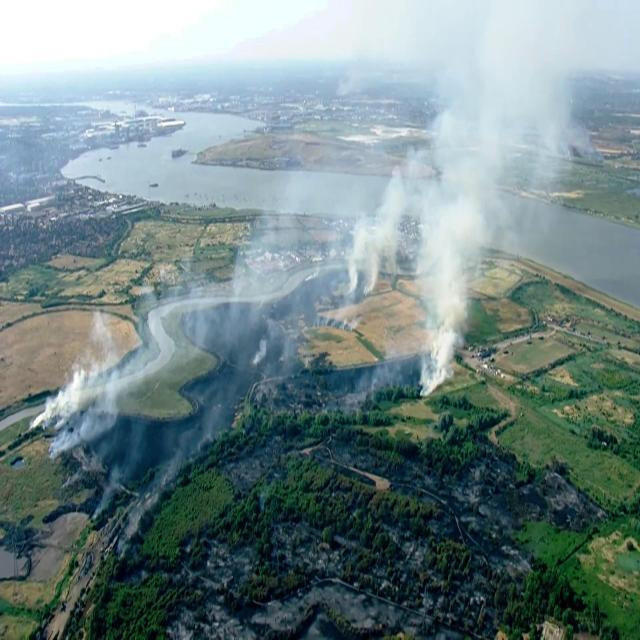Smoke: (28, 0, 610, 505)
